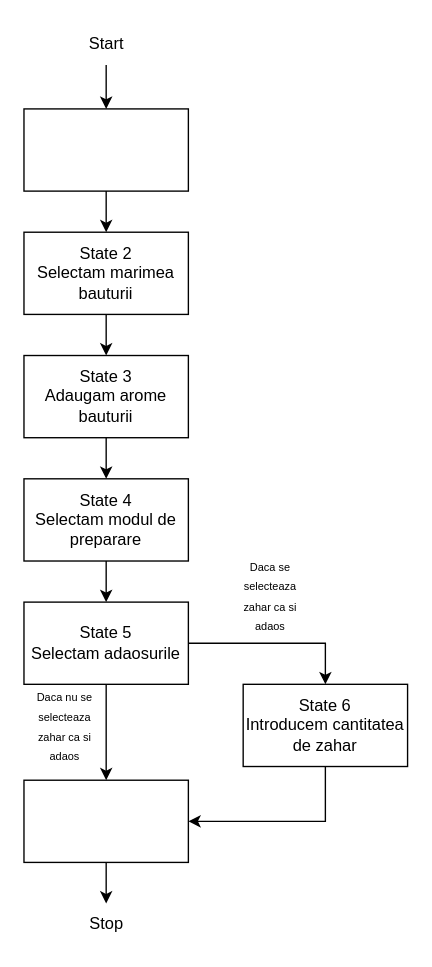
The diagram is 432 pixels wide and 967 high, and some of its shapes have lost their labels. The box of each missing label's shape, as (x1, y1, x2, y2) in pixels:
State 1 Selectam bautura: (23, 108, 188, 191)
State 7 Afisarea comenzii: (23, 779, 188, 862)
